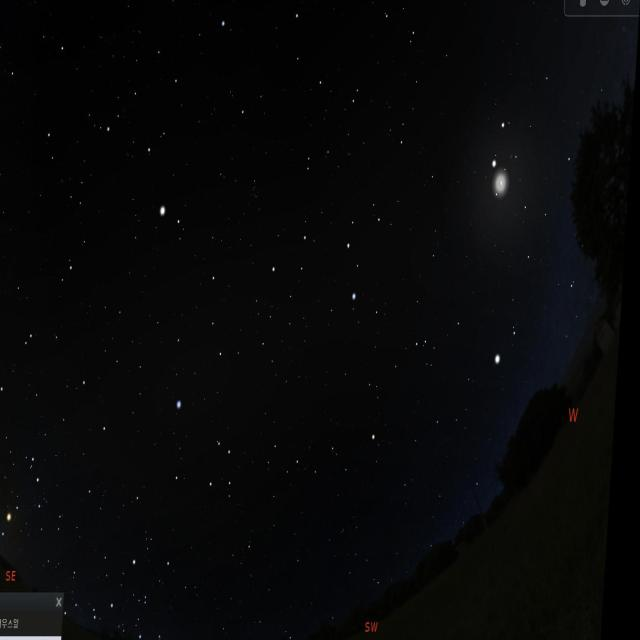bootes: (113, 43, 200, 237)
canis_minor: (486, 305, 531, 373)
gemini: (477, 102, 605, 280)
moon: (490, 151, 519, 211)
scorpius: (3, 436, 58, 551)
